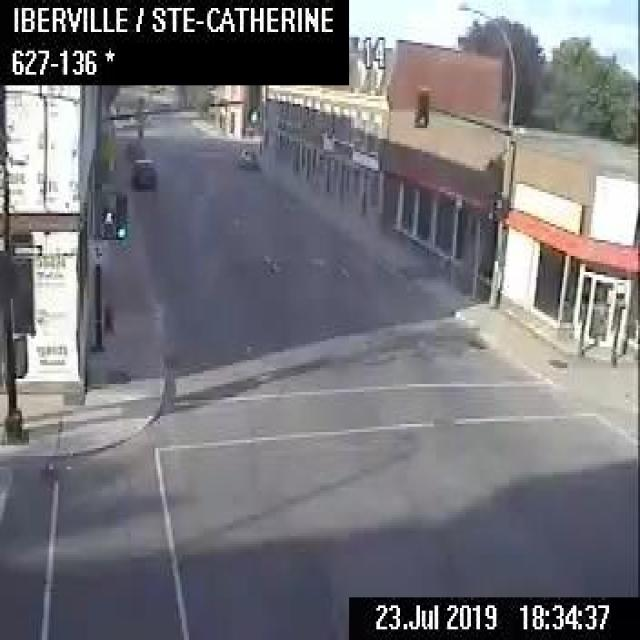vehicle: (130, 154, 155, 192), (234, 142, 260, 170), (125, 136, 144, 159)
